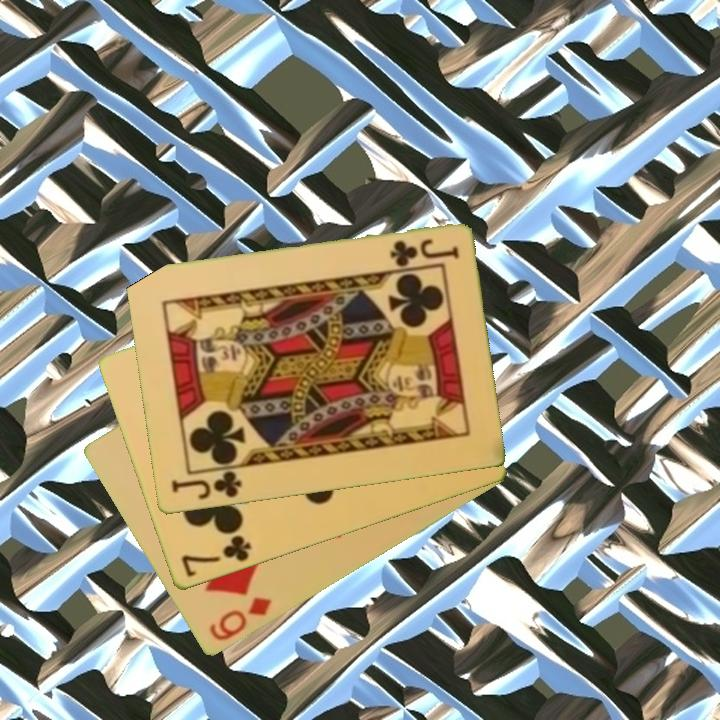6d: (205, 594, 275, 645)
7c: (177, 532, 254, 581)
Jc: (167, 468, 244, 503), (386, 236, 462, 270)
